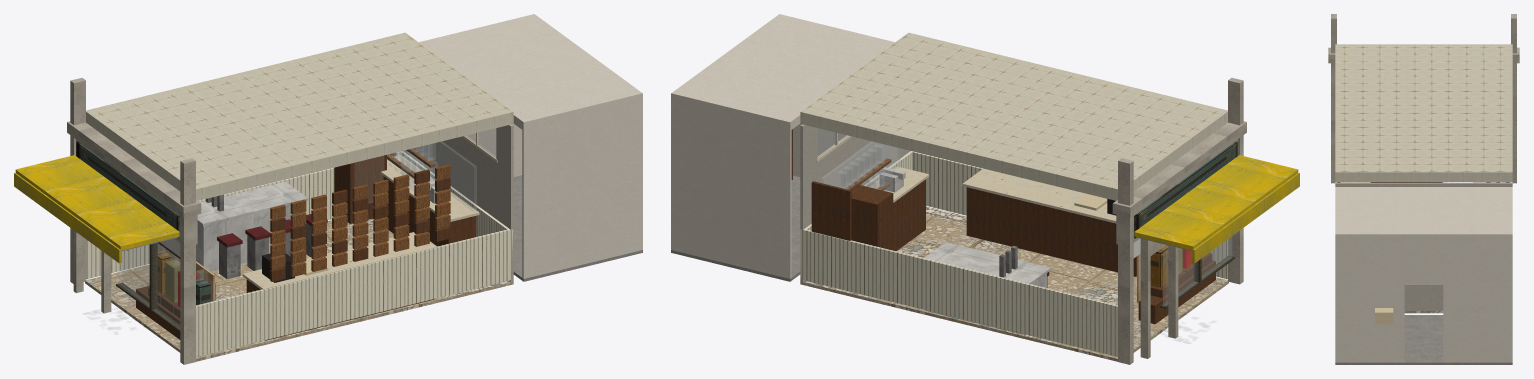
Rendered from shop_otis_son.gltf.
3 views of the same model, side by side, from view 1: azimuth 30°, elevation 25°; view 2: azimuth 150°, elevation 25°; view 3: azimuth 270°, elevation 25° (orthographic). The views are drawn at different scales.
Visible parts, largest first — view 1: F01_OWN_SHOP_OTIS_SON_retail_shop_otis___son_tin_ceiling-col, F01_OWN_SHOP_OTIS_SON_retail_shop_otis___son_plaster-col, F01_OWN_SHOP_OTIS_SON_retail_shop_otis___son_wainscot-col, F01_OWN_SHOP_OTIS_SON_retail_shop_otis___son_limestone-col, F01_OWN_SHOP_OTIS_SON_retail_shop_otis___son_awning_vinyl-co, F01_OWN_SHOP_OTIS_SON_retail_shop_otis___son_oak_quartered-c, F01_OWN_SHOP_OTIS_SON_retail_shop_otis___son_glassish-col, F01_OWN_SHOP_OTIS_SON_retail_shop_otis___son_wood_dark-col, F01_OWN_SHOP_OTIS_SON_retail_shop_otis___son_plaster_stained, F01_OWN_SHOP_OTIS_SON_retail_shop_otis___son_terrazzo-col, F01_OWN_SHOP_OTIS_SON_retail_shop_otis___son_marble_lobby-co, F01_OWN_SHOP_OTIS_SON_retail_shop_otis___son_countertop-col (+6 smaller); view 2: F01_OWN_SHOP_OTIS_SON_retail_shop_otis___son_tin_ceiling-col, F01_OWN_SHOP_OTIS_SON_retail_shop_otis___son_plaster-col, F01_OWN_SHOP_OTIS_SON_retail_shop_otis___son_wainscot-col, F01_OWN_SHOP_OTIS_SON_retail_shop_otis___son_wood_dark-col, F01_OWN_SHOP_OTIS_SON_retail_shop_otis___son_limestone-col, F01_OWN_SHOP_OTIS_SON_retail_shop_otis___son_awning_vinyl-co, F01_OWN_SHOP_OTIS_SON_retail_shop_otis___son_terrazzo-col, F01_OWN_SHOP_OTIS_SON_retail_shop_otis___son_glassish-col, F01_OWN_SHOP_OTIS_SON_retail_shop_otis___son_plaster_stained, F01_OWN_SHOP_OTIS_SON_retail_shop_otis___son_countertop-col, F01_OWN_SHOP_OTIS_SON_retail_shop_otis___son_marble_lobby-co, F01_OWN_SHOP_OTIS_SON_retail_shop_otis___son_book_teal-col (+3 smaller); view 3: F01_OWN_SHOP_OTIS_SON_retail_shop_otis___son_plaster-col, F01_OWN_SHOP_OTIS_SON_retail_shop_otis___son_tin_ceiling-col, F01_OWN_SHOP_OTIS_SON_retail_shop_otis___son_concrete-col, F01_OWN_SHOP_OTIS_SON_retail_shop_otis___son_plaster_stained, F01_OWN_SHOP_OTIS_SON_retail_shop_otis___son_limestone-col, F01_OWN_SHOP_OTIS_SON_retail_shop_otis___son_paper-col.
Part boxes in pixels (<box>): F01_OWN_SHOP_OTIS_SON_retail_shop_otis___son_tin_ceiling-col: <box>86,32,513,200</box>; F01_OWN_SHOP_OTIS_SON_retail_shop_otis___son_plaster-col: <box>419,14,642,278</box>; F01_OWN_SHOP_OTIS_SON_retail_shop_otis___son_wainscot-col: <box>86,151,513,356</box>; F01_OWN_SHOP_OTIS_SON_retail_shop_otis___son_limestone-col: <box>67,78,201,364</box>; F01_OWN_SHOP_OTIS_SON_retail_shop_otis___son_awning_vinyl-co: <box>14,155,179,263</box>; F01_OWN_SHOP_OTIS_SON_retail_shop_otis___son_oak_quartered-c: <box>270,164,450,276</box>; F01_OWN_SHOP_OTIS_SON_retail_shop_otis___son_glassish-col: <box>119,128,495,328</box>; F01_OWN_SHOP_OTIS_SON_retail_shop_otis___son_wood_dark-col: <box>136,152,476,340</box>; F01_OWN_SHOP_OTIS_SON_retail_shop_otis___son_plaster_stained: <box>404,124,513,281</box>; F01_OWN_SHOP_OTIS_SON_retail_shop_otis___son_terrazzo-col: <box>85,218,513,361</box>; F01_OWN_SHOP_OTIS_SON_retail_shop_otis___son_marble_lobby-co: <box>196,180,449,271</box>; F01_OWN_SHOP_OTIS_SON_retail_shop_otis___son_countertop-col: <box>242,155,479,289</box>; F01_OWN_SHOP_OTIS_SON_retail_shop_otis___son_tin_ceiling-col: <box>800,32,1227,200</box>; F01_OWN_SHOP_OTIS_SON_retail_shop_otis___son_plaster-col: <box>671,14,894,278</box>; F01_OWN_SHOP_OTIS_SON_retail_shop_otis___son_wainscot-col: <box>800,151,1227,356</box>; F01_OWN_SHOP_OTIS_SON_retail_shop_otis___son_wood_dark-col: <box>791,129,1215,324</box>; F01_OWN_SHOP_OTIS_SON_retail_shop_otis___son_limestone-col: <box>1112,78,1246,364</box>; F01_OWN_SHOP_OTIS_SON_retail_shop_otis___son_awning_vinyl-co: <box>1134,155,1299,263</box>; F01_OWN_SHOP_OTIS_SON_retail_shop_otis___son_terrazzo-col: <box>800,206,1228,361</box>; F01_OWN_SHOP_OTIS_SON_retail_shop_otis___son_glassish-col: <box>818,128,1231,305</box>; F01_OWN_SHOP_OTIS_SON_retail_shop_otis___son_plaster_stained: <box>800,124,910,281</box>; F01_OWN_SHOP_OTIS_SON_retail_shop_otis___son_countertop-col: <box>869,166,1116,223</box>; F01_OWN_SHOP_OTIS_SON_retail_shop_otis___son_marble_lobby-co: <box>879,167,1051,334</box>; F01_OWN_SHOP_OTIS_SON_retail_shop_otis___son_book_teal-col: <box>1134,141,1237,238</box>; F01_OWN_SHOP_OTIS_SON_retail_shop_otis___son_plaster-col: <box>1335,187,1512,362</box>; F01_OWN_SHOP_OTIS_SON_retail_shop_otis___son_tin_ceiling-col: <box>1335,44,1512,181</box>; F01_OWN_SHOP_OTIS_SON_retail_shop_otis___son_concrete-col: <box>1335,315,1512,364</box>; F01_OWN_SHOP_OTIS_SON_retail_shop_otis___son_plaster_stained: <box>1335,182,1512,310</box>; F01_OWN_SHOP_OTIS_SON_retail_shop_otis___son_limestone-col: <box>1328,14,1519,183</box>; F01_OWN_SHOP_OTIS_SON_retail_shop_otis___son_paper-col: <box>1375,308,1393,324</box>.
Bounding box in the file's own units: 11.64 × 4.25 × 4.42.
31 materials, 30 textured.
